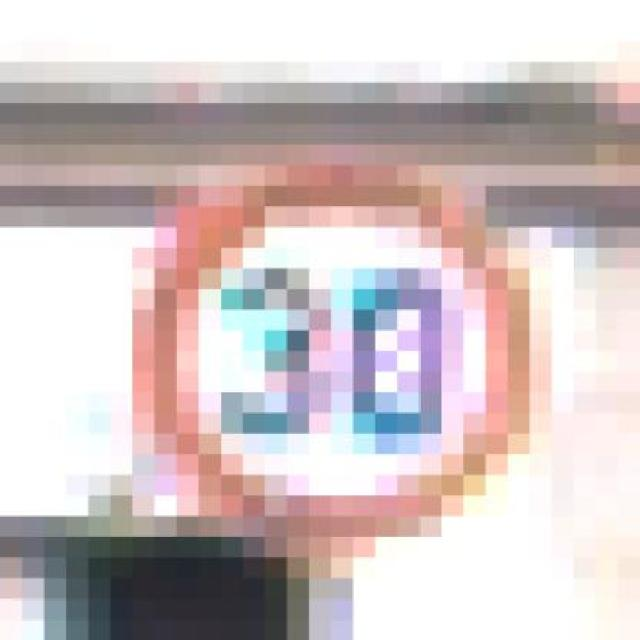Speed Limit 30 KMPh: (89, 82, 596, 600)
